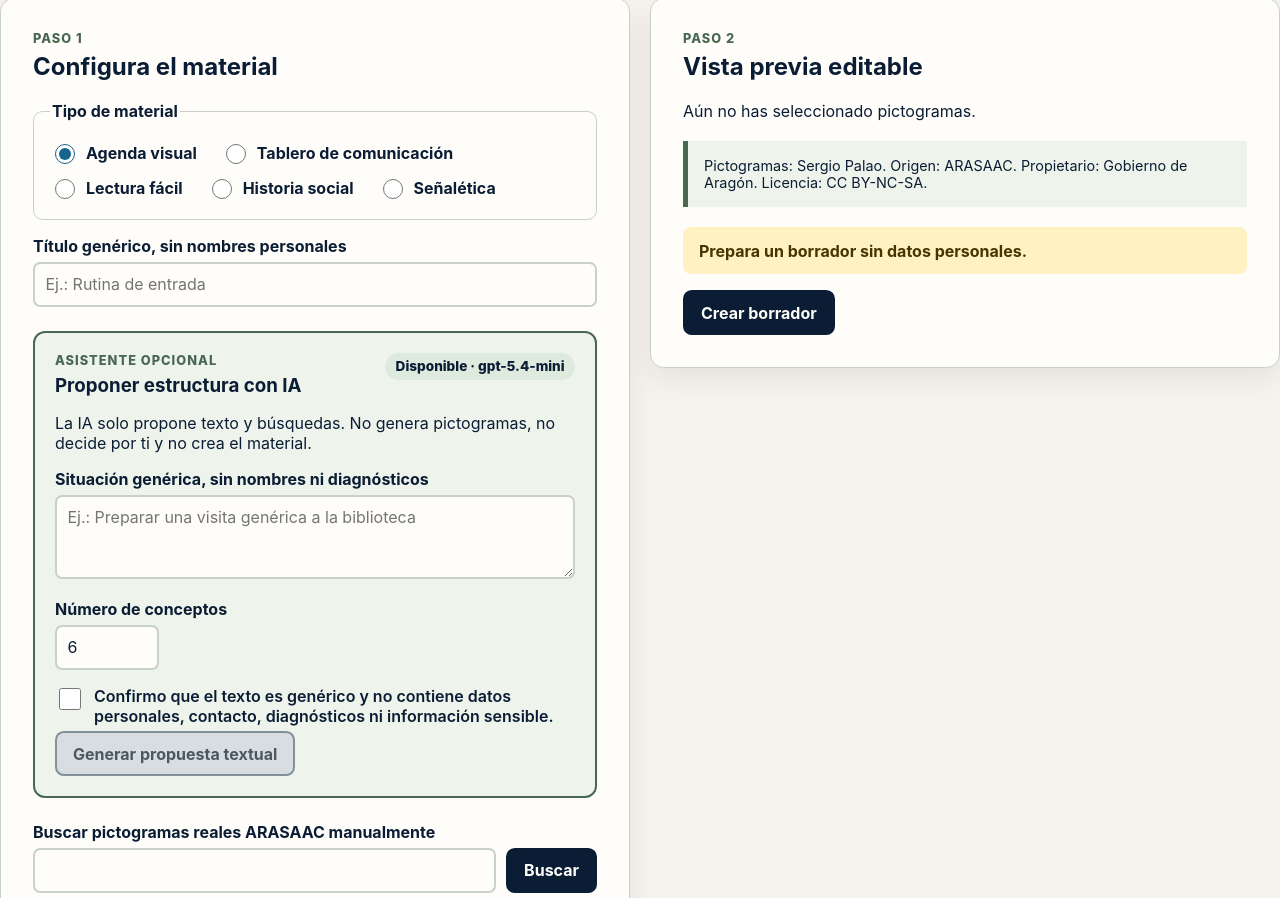
guided material flow › shows a visible and semantic selected state for chosen pictograms
This screenshot has width=1280, height=898.
Step 1. Type "casa" into the field labelled "Buscar pictogramas reales ARASAAC manualmente" → (264, 870), box [33,848,496,893]
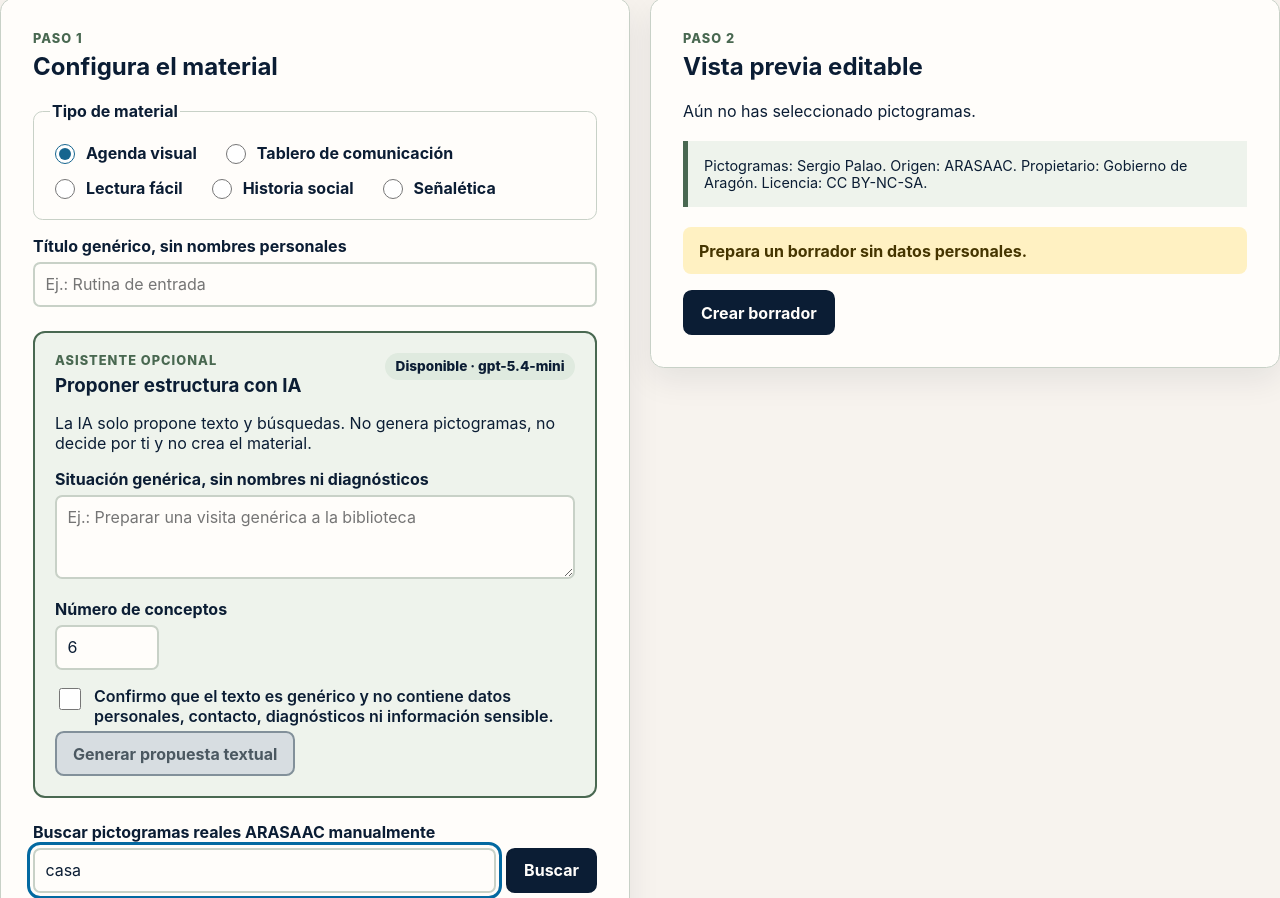
Step 2. Click the button "Buscar" → (552, 870), box [506,848,597,893]
(page scrolled)
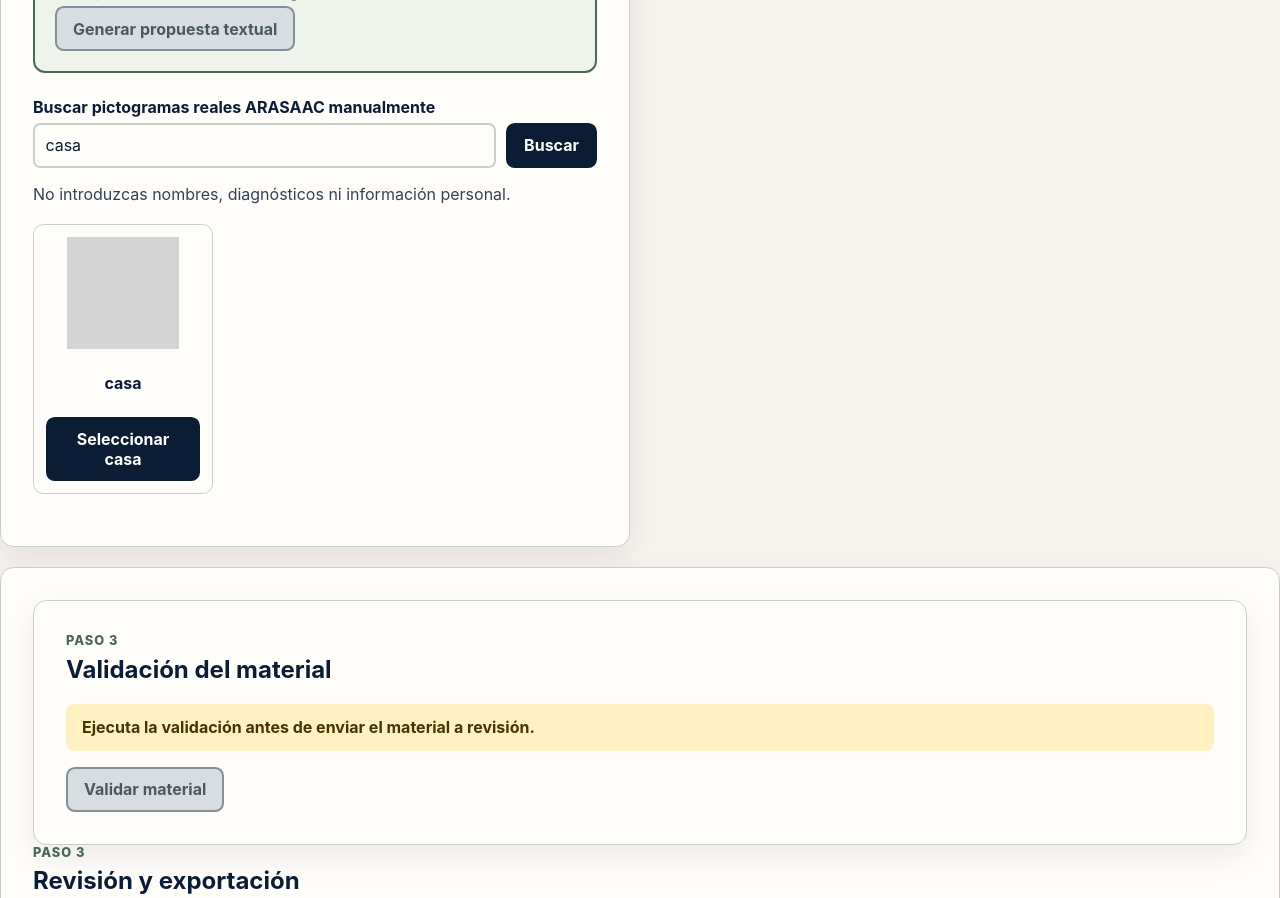
Step 3. Click the button "Seleccionar casa" → (123, 449), box [46,417,200,481]
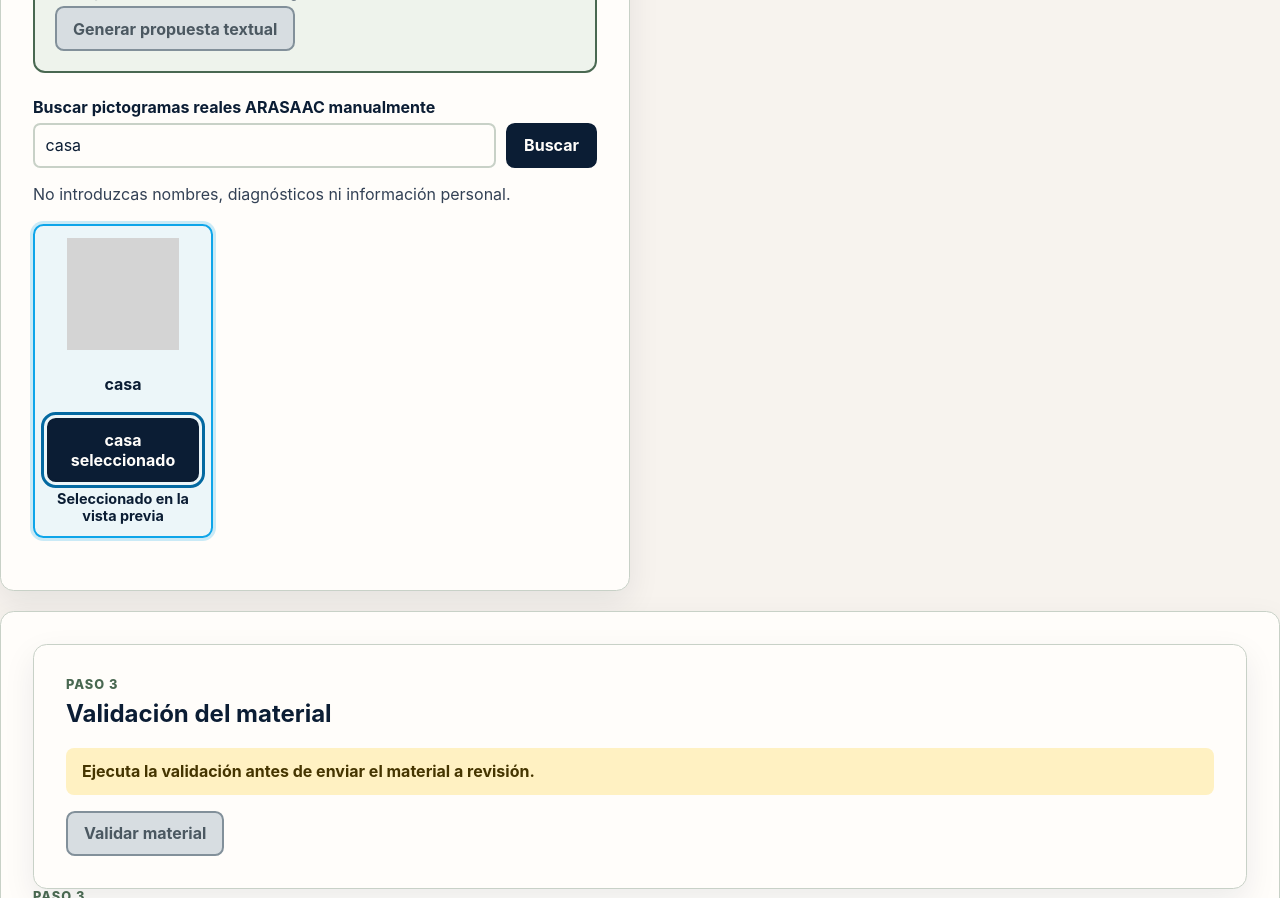
Result: the button "casa seleccionado" is shown at [47,418,199,482]
Result: the text "Seleccionado en la vista previa" is shown at [47,490,199,524]
